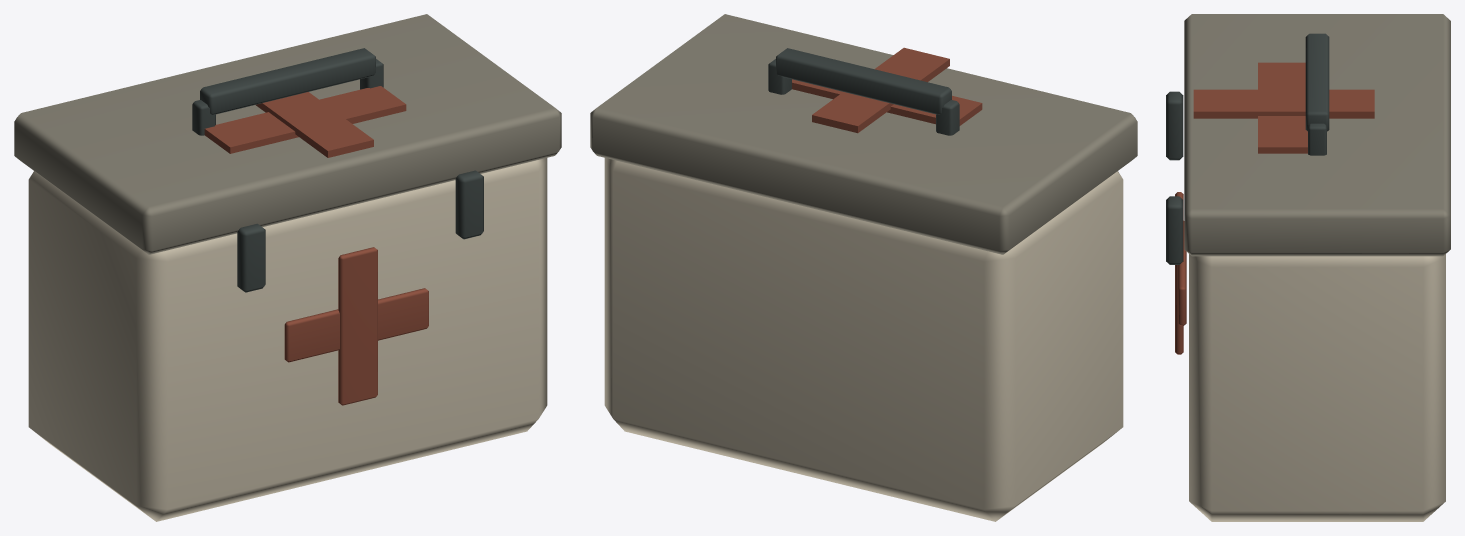
The model's file is MedicalBox01.fbx.
3 views of the same model, side by side, from view 1: azimuth 30°, elevation 25°; view 2: azimuth 150°, elevation 25°; view 3: azimuth 270°, elevation 25° (orthographic).
Parts seen in each view (by area): view 1: MedicalBox01.001; view 2: MedicalBox01.001; view 3: MedicalBox01.001.
Boxes of the visible parts, x1,y1,x2,y2 form: MedicalBox01.001: (14, 14, 561, 521); MedicalBox01.001: (590, 14, 1137, 521); MedicalBox01.001: (1166, 14, 1450, 521).
Bounding box in the file's own units: 50 × 41.75 × 29.9.
